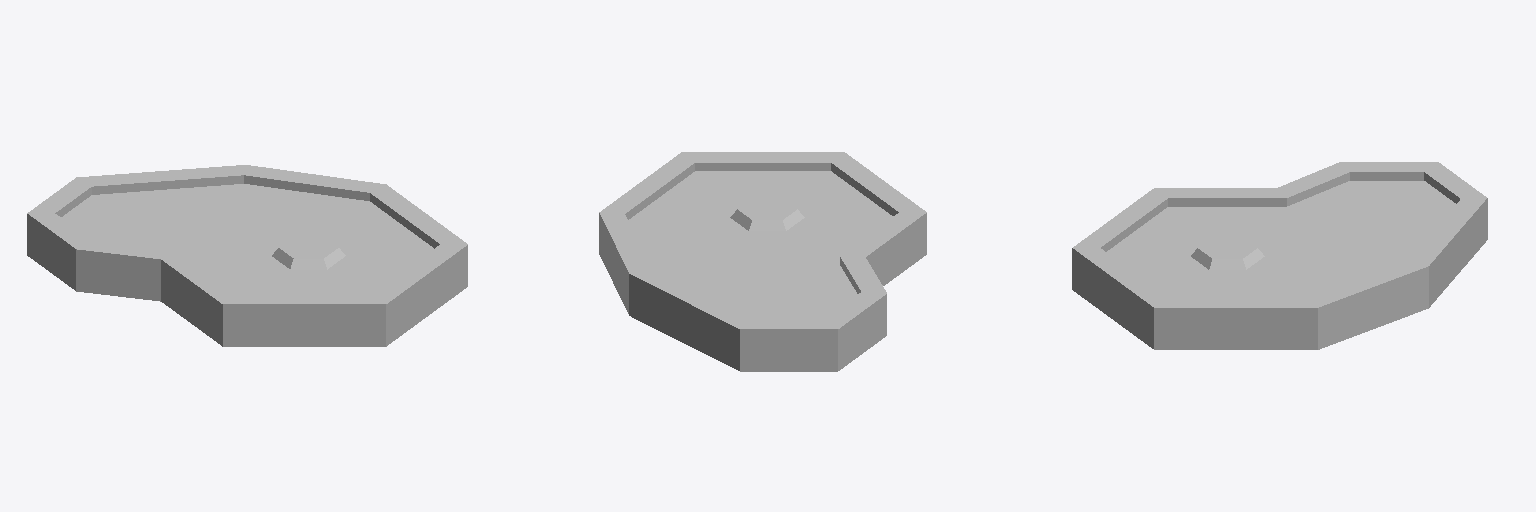
The model's file is meatRaw.obj.
3 renders of one model, left to right at view 1: azimuth 30°, elevation 25°; view 2: azimuth 150°, elevation 25°; view 3: azimuth 270°, elevation 25°, orthographic.
Parts seen in each view (by area): view 1: meatRaw; view 2: meatRaw; view 3: meatRaw.
Part boxes in pixels (bbox=[...]): meatRaw: bbox=[27, 165, 467, 346]; meatRaw: bbox=[599, 152, 926, 371]; meatRaw: bbox=[1072, 162, 1487, 349].
Size of the model in its own units: 0.4785 by 0.0645 by 0.5754.